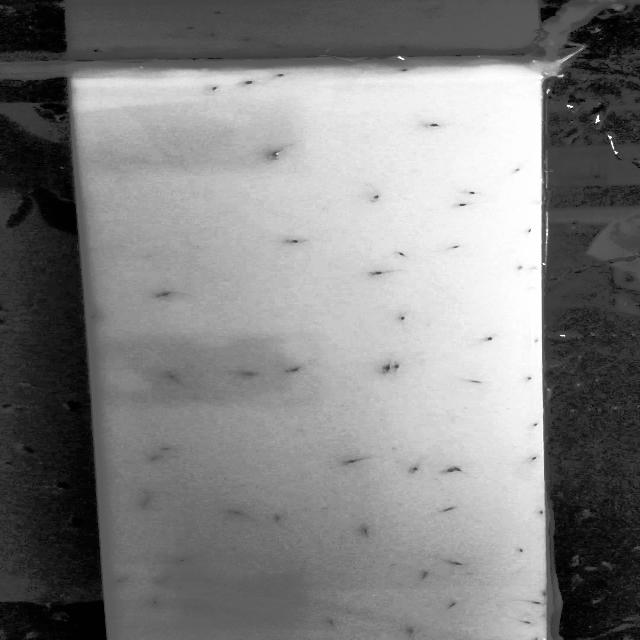shrimp: (163, 368, 192, 388), (159, 282, 190, 299), (270, 509, 294, 528), (367, 187, 387, 206), (213, 507, 251, 517), (133, 493, 155, 509), (446, 463, 471, 476), (444, 242, 470, 254), (506, 614, 534, 625), (342, 454, 366, 466), (150, 597, 174, 609), (286, 232, 308, 244), (437, 504, 463, 514), (324, 619, 350, 629), (516, 595, 540, 605), (112, 572, 135, 582), (464, 186, 486, 196), (86, 312, 113, 320), (414, 568, 430, 581), (272, 147, 292, 157), (241, 370, 266, 378), (472, 336, 492, 346), (192, 604, 217, 612), (202, 85, 223, 94), (238, 79, 261, 87), (422, 120, 448, 127), (268, 70, 286, 80), (450, 200, 472, 208), (510, 165, 526, 176), (155, 575, 171, 586), (396, 248, 413, 258), (462, 376, 483, 384), (391, 362, 403, 375), (449, 559, 467, 567), (442, 602, 460, 610), (372, 268, 386, 278), (285, 366, 304, 373), (442, 468, 458, 476), (406, 465, 418, 475), (404, 624, 416, 634), (138, 456, 166, 460), (178, 554, 194, 561), (382, 363, 392, 373), (361, 526, 371, 536), (398, 313, 409, 322), (161, 444, 174, 451), (400, 66, 412, 73), (517, 547, 532, 552), (526, 456, 536, 463), (529, 421, 538, 428), (525, 377, 532, 384)
